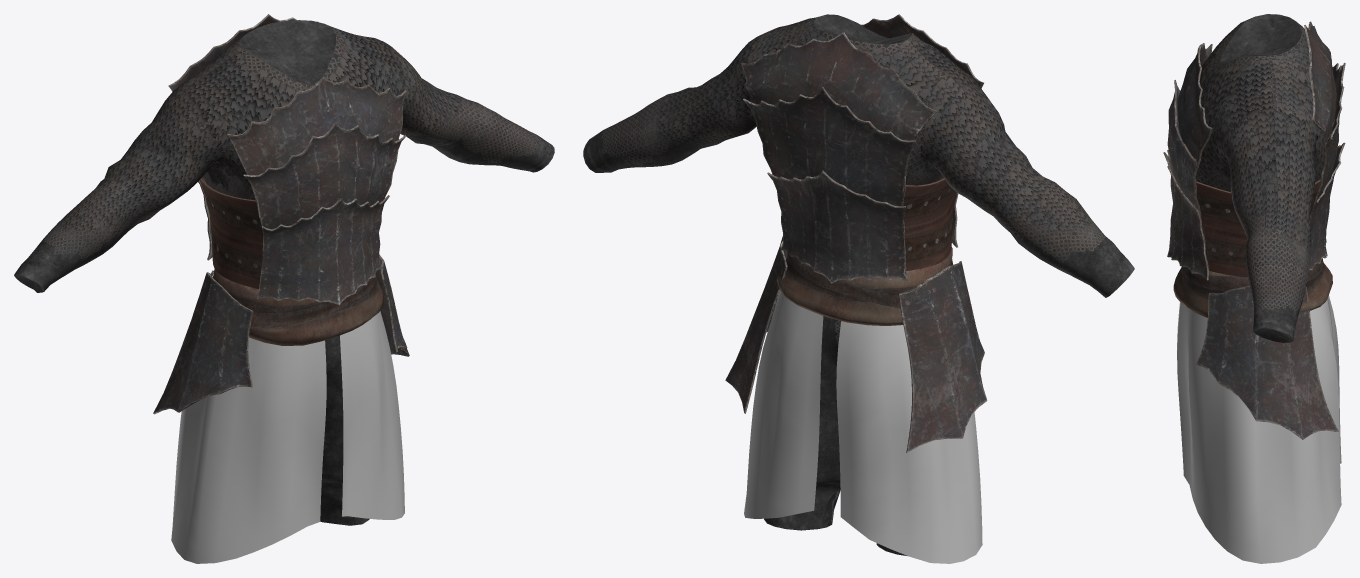
Rendered from sk_dg_uruk_chest_heavy_f.fbx.
3 renders of one model, left to right at view 1: azimuth 30°, elevation 25°; view 2: azimuth 150°, elevation 25°; view 3: azimuth 270°, elevation 25°, orthographic. The views are drawn at different scales.
Parts seen in each view (by area): view 1: sk_dg_uruk_chest_heavy_f.1, sk_dg_uruk_chest_heavy_f.skirt.0, sk_dg_uruk_chest_heavy_f.2, sk_dg_uruk_chest_heavy_f.skirt.1, sk_dg_uruk_chest_heavy_f.0; view 2: sk_dg_uruk_chest_heavy_f.1, sk_dg_uruk_chest_heavy_f.skirt.0, sk_dg_uruk_chest_heavy_f.2, sk_dg_uruk_chest_heavy_f.skirt.1, sk_dg_uruk_chest_heavy_f.0; view 3: sk_dg_uruk_chest_heavy_f.1, sk_dg_uruk_chest_heavy_f.skirt.0, sk_dg_uruk_chest_heavy_f.2, sk_dg_uruk_chest_heavy_f.skirt.1.
Part boxes in pixels (x1,y1,x2,y2): sk_dg_uruk_chest_heavy_f.1: (14, 20, 554, 345); sk_dg_uruk_chest_heavy_f.skirt.0: (171, 311, 404, 563); sk_dg_uruk_chest_heavy_f.2: (168, 14, 406, 305); sk_dg_uruk_chest_heavy_f.skirt.1: (153, 254, 409, 414); sk_dg_uruk_chest_heavy_f.0: (320, 335, 369, 525); sk_dg_uruk_chest_heavy_f.1: (583, 14, 1134, 325); sk_dg_uruk_chest_heavy_f.skirt.0: (744, 290, 982, 563); sk_dg_uruk_chest_heavy_f.2: (740, 14, 983, 283); sk_dg_uruk_chest_heavy_f.skirt.1: (725, 236, 987, 452); sk_dg_uruk_chest_heavy_f.0: (764, 316, 906, 555); sk_dg_uruk_chest_heavy_f.1: (1173, 14, 1332, 342); sk_dg_uruk_chest_heavy_f.skirt.0: (1177, 295, 1341, 563); sk_dg_uruk_chest_heavy_f.2: (1163, 21, 1345, 280); sk_dg_uruk_chest_heavy_f.skirt.1: (1196, 285, 1338, 439).
Size of the model in its own units: 1.35 by 0.4119 by 1.22.
